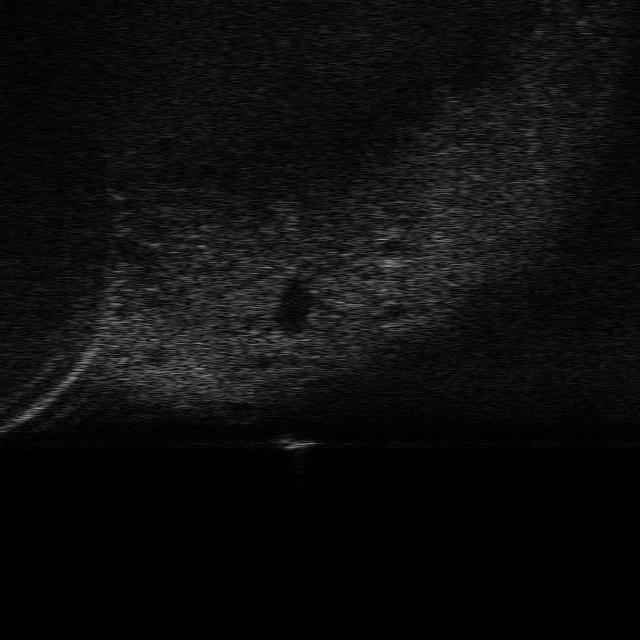cube: (266, 426, 322, 452)
